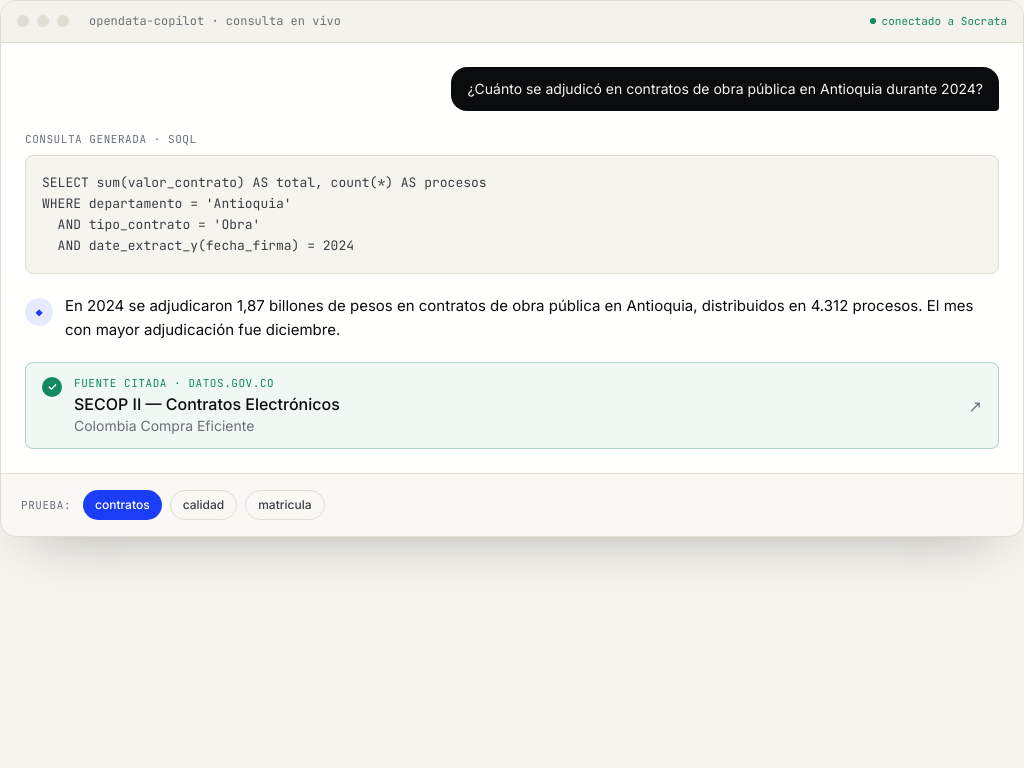
secciones de la landing › DemoConsole muestra el intercambio activo y cambia al seleccionar otro
This screenshot has width=1024, height=768.
Expected: the text "¿Cuánto se adjudicó en contratos de obra pública en Antioquia durante 2024?" is shown, [451,66,999,110]
Click the button "calidad" at {"x": 203, "y": 505}, box [170,490,237,520]
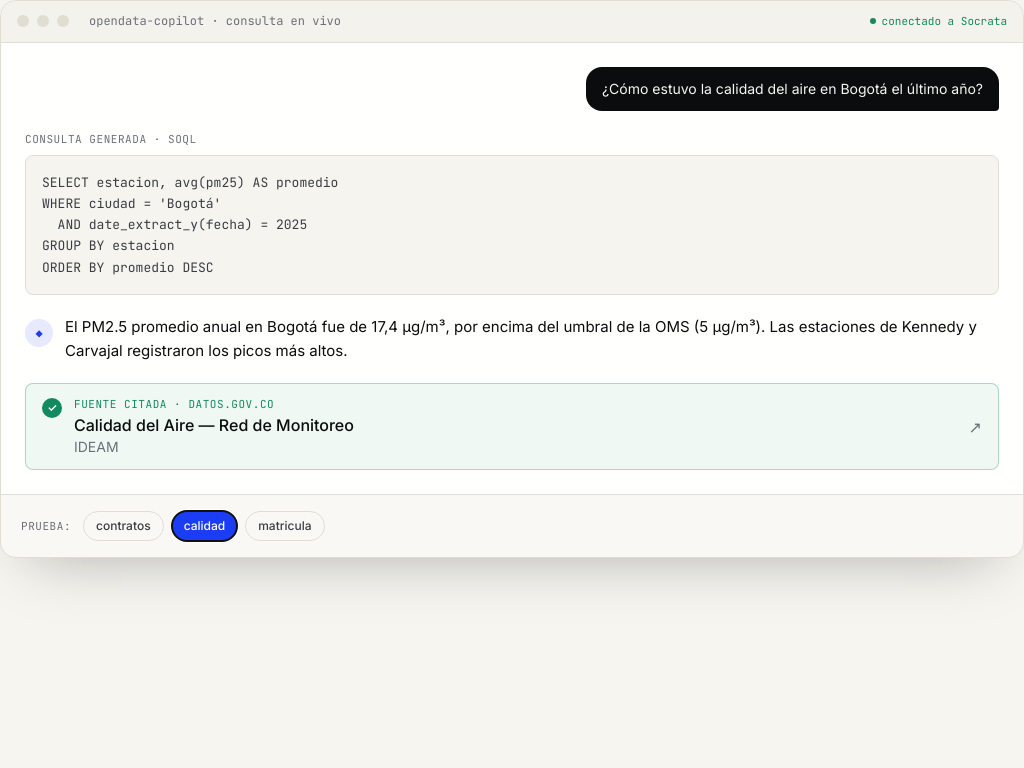
Result: the text "¿Cómo estuvo la calidad del aire en Bogotá el último año?" is shown at [586,66,999,110]
